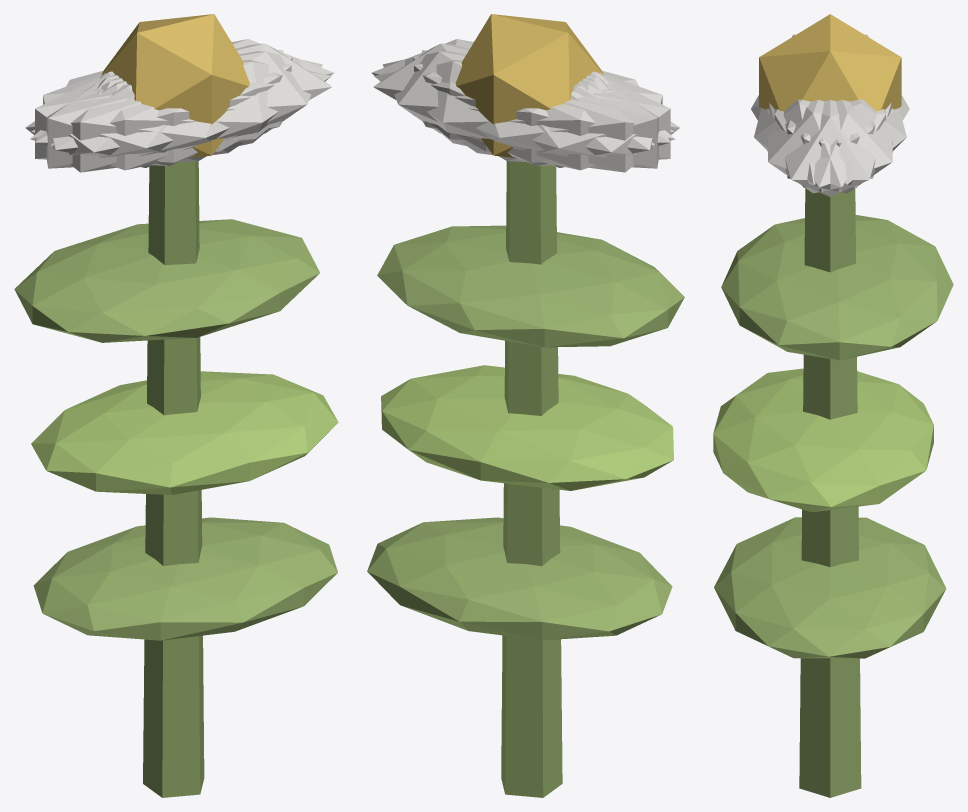
File: plumbago-zeylanica.glb
3 views of the same model, side by side, from view 1: azimuth 30°, elevation 25°; view 2: azimuth 150°, elevation 25°; view 3: azimuth 270°, elevation 25° (orthographic).
Parts seen in each view (by area): view 1: leaf1, leaf2, leaf0, stem, center, petal1, petal6, petal2, petal5, petal7, petal0, petal4 (+2 smaller); view 2: leaf2, leaf0, leaf1, stem, center, petal8, petal3, petal7, petal4, petal2, petal0, petal5 (+2 smaller); view 3: leaf2, leaf0, leaf1, stem, center, petal0, petal4, petal5, petal8, petal1.
Boxes of the visible parts, x1=… form: leaf1: x1=31, y1=371, x2=338, y2=494; leaf2: x1=14, y1=219, x2=319, y2=342; leaf0: x1=33, y1=517, x2=337, y2=640; stem: x1=143, y1=161, x2=204, y2=797; center: x1=101, y1=14, x2=249, y2=157; petal1: x1=30, y1=59, x2=331, y2=170; petal6: x1=25, y1=73, x2=243, y2=172; petal2: x1=46, y1=50, x2=283, y2=168; petal5: x1=50, y1=51, x2=322, y2=162; petal7: x1=35, y1=56, x2=292, y2=165; petal0: x1=101, y1=43, x2=331, y2=152; petal4: x1=31, y1=39, x2=333, y2=142; leaf2: x1=377, y1=225, x2=684, y2=347; leaf0: x1=367, y1=517, x2=672, y2=640; leaf1: x1=381, y1=365, x2=673, y2=490; stem: x1=501, y1=161, x2=562, y2=797; center: x1=455, y1=14, x2=603, y2=157; petal8: x1=374, y1=59, x2=675, y2=170; petal3: x1=462, y1=73, x2=679, y2=172; petal7: x1=422, y1=50, x2=658, y2=168; petal4: x1=382, y1=51, x2=654, y2=162; petal2: x1=413, y1=56, x2=670, y2=165; petal0: x1=373, y1=43, x2=604, y2=151; petal5: x1=371, y1=39, x2=673, y2=142; leaf2: x1=721, y1=215, x2=953, y2=360; leaf0: x1=714, y1=517, x2=946, y2=658; leaf1: x1=713, y1=368, x2=933, y2=512; stem: x1=799, y1=188, x2=861, y2=797; center: x1=759, y1=14, x2=901, y2=111; petal0: x1=769, y1=100, x2=891, y2=196; petal4: x1=774, y1=100, x2=893, y2=193; petal5: x1=767, y1=100, x2=885, y2=193; petal8: x1=785, y1=99, x2=906, y2=184; petal1: x1=754, y1=99, x2=875, y2=184.
Bounding box in the file's own units: 0.1452 × 0.3566 × 0.1034.
